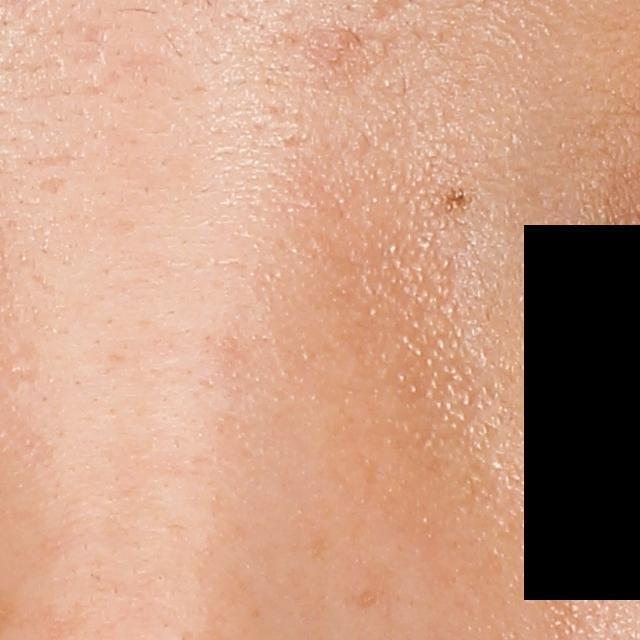nevus: (442, 183, 470, 214)
